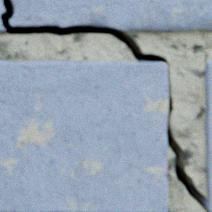brick: (0, 60, 167, 211), (204, 60, 211, 209)
broken_brick: (9, 0, 211, 30), (0, 0, 4, 15), (0, 19, 4, 31)
crack: (0, 0, 211, 211)
